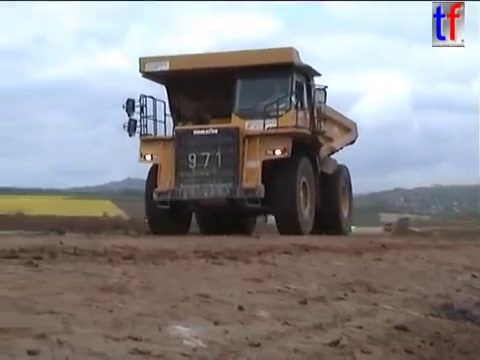truck: (119, 44, 362, 238)
